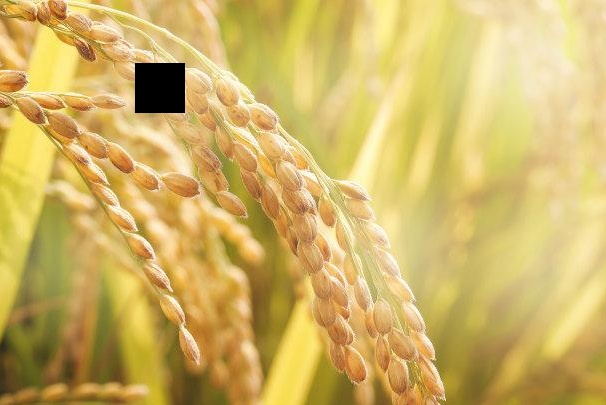rice: (7, 2, 435, 403)
